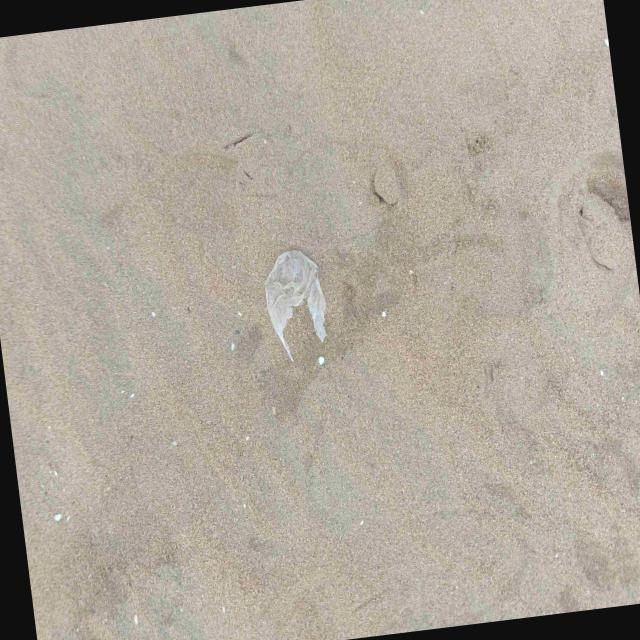nhua: (264, 250, 326, 360)
